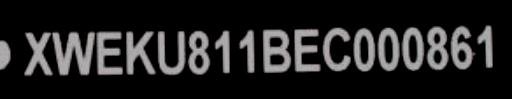letter: (51, 24, 101, 87), (122, 24, 162, 81), (93, 24, 129, 87), (256, 22, 294, 81), (322, 24, 358, 81), (17, 28, 55, 81), (290, 24, 322, 81), (184, 24, 214, 83), (208, 24, 238, 83), (448, 22, 480, 75), (374, 22, 404, 75), (422, 22, 452, 75), (350, 22, 376, 81), (398, 26, 428, 77), (156, 28, 186, 79), (473, 22, 499, 75), (235, 22, 259, 77)
